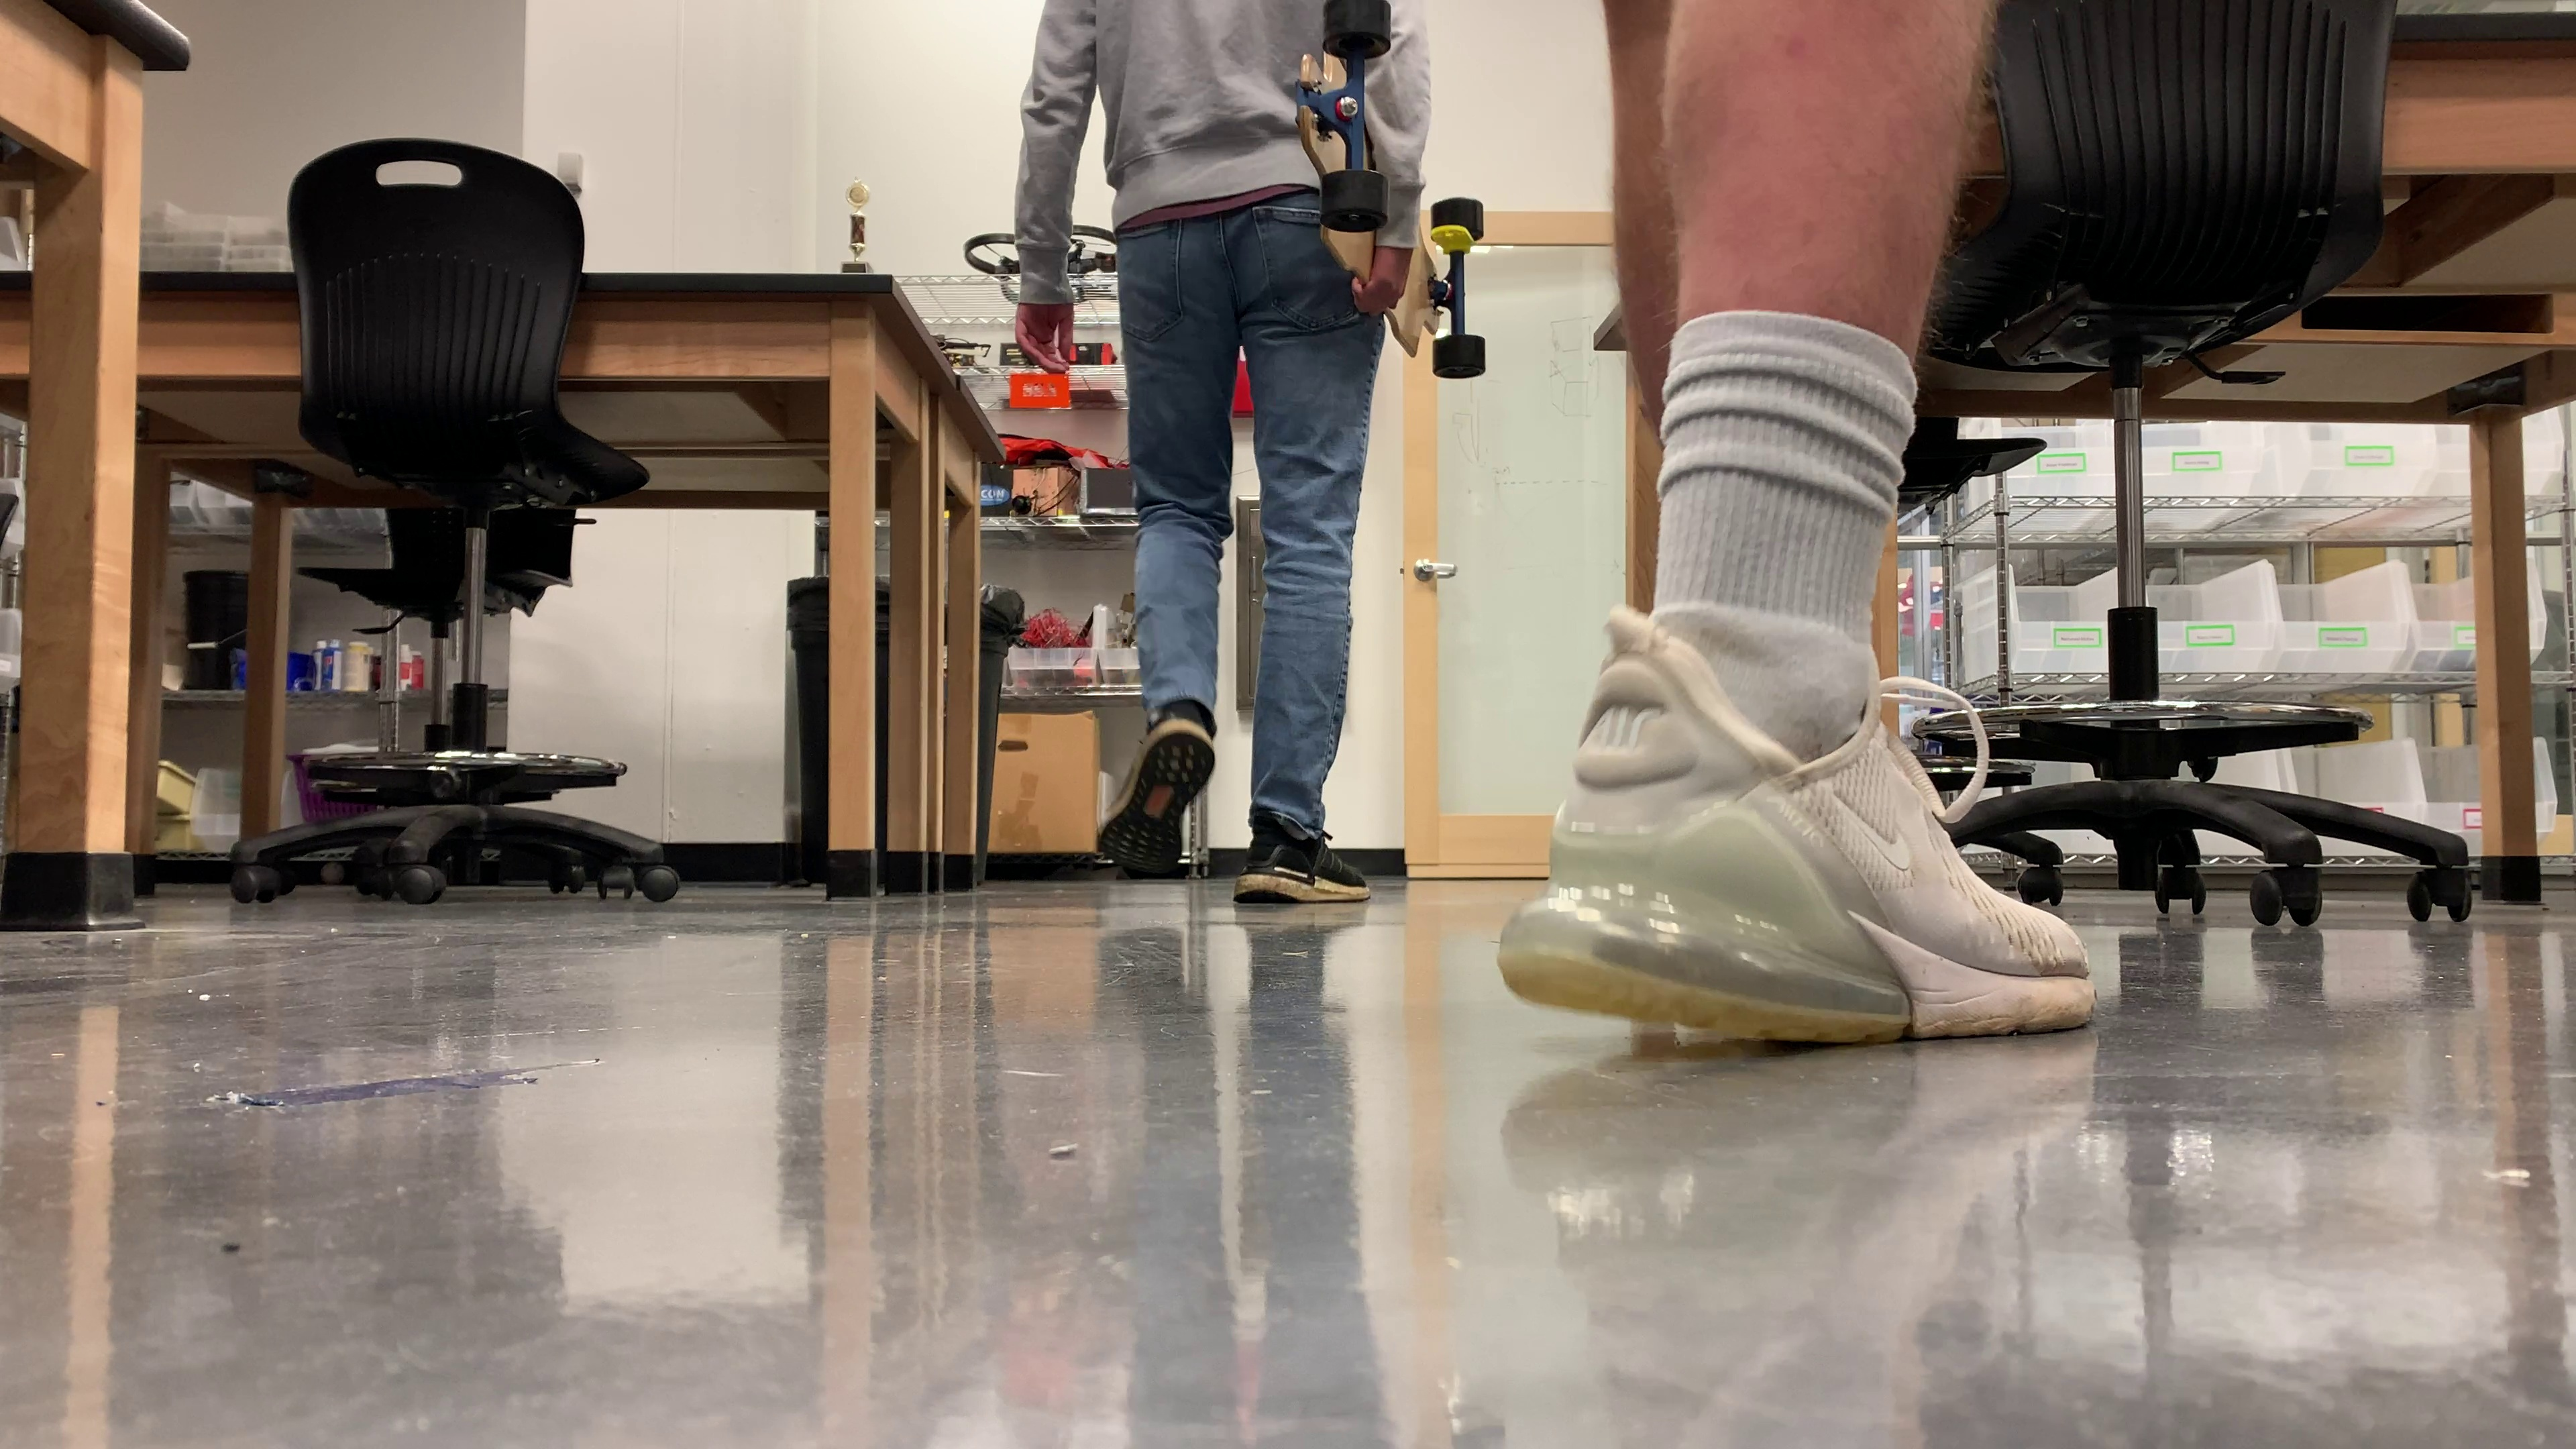shoe: (1493, 635, 2093, 1040), (1099, 697, 1214, 874), (1233, 824, 1369, 902)
